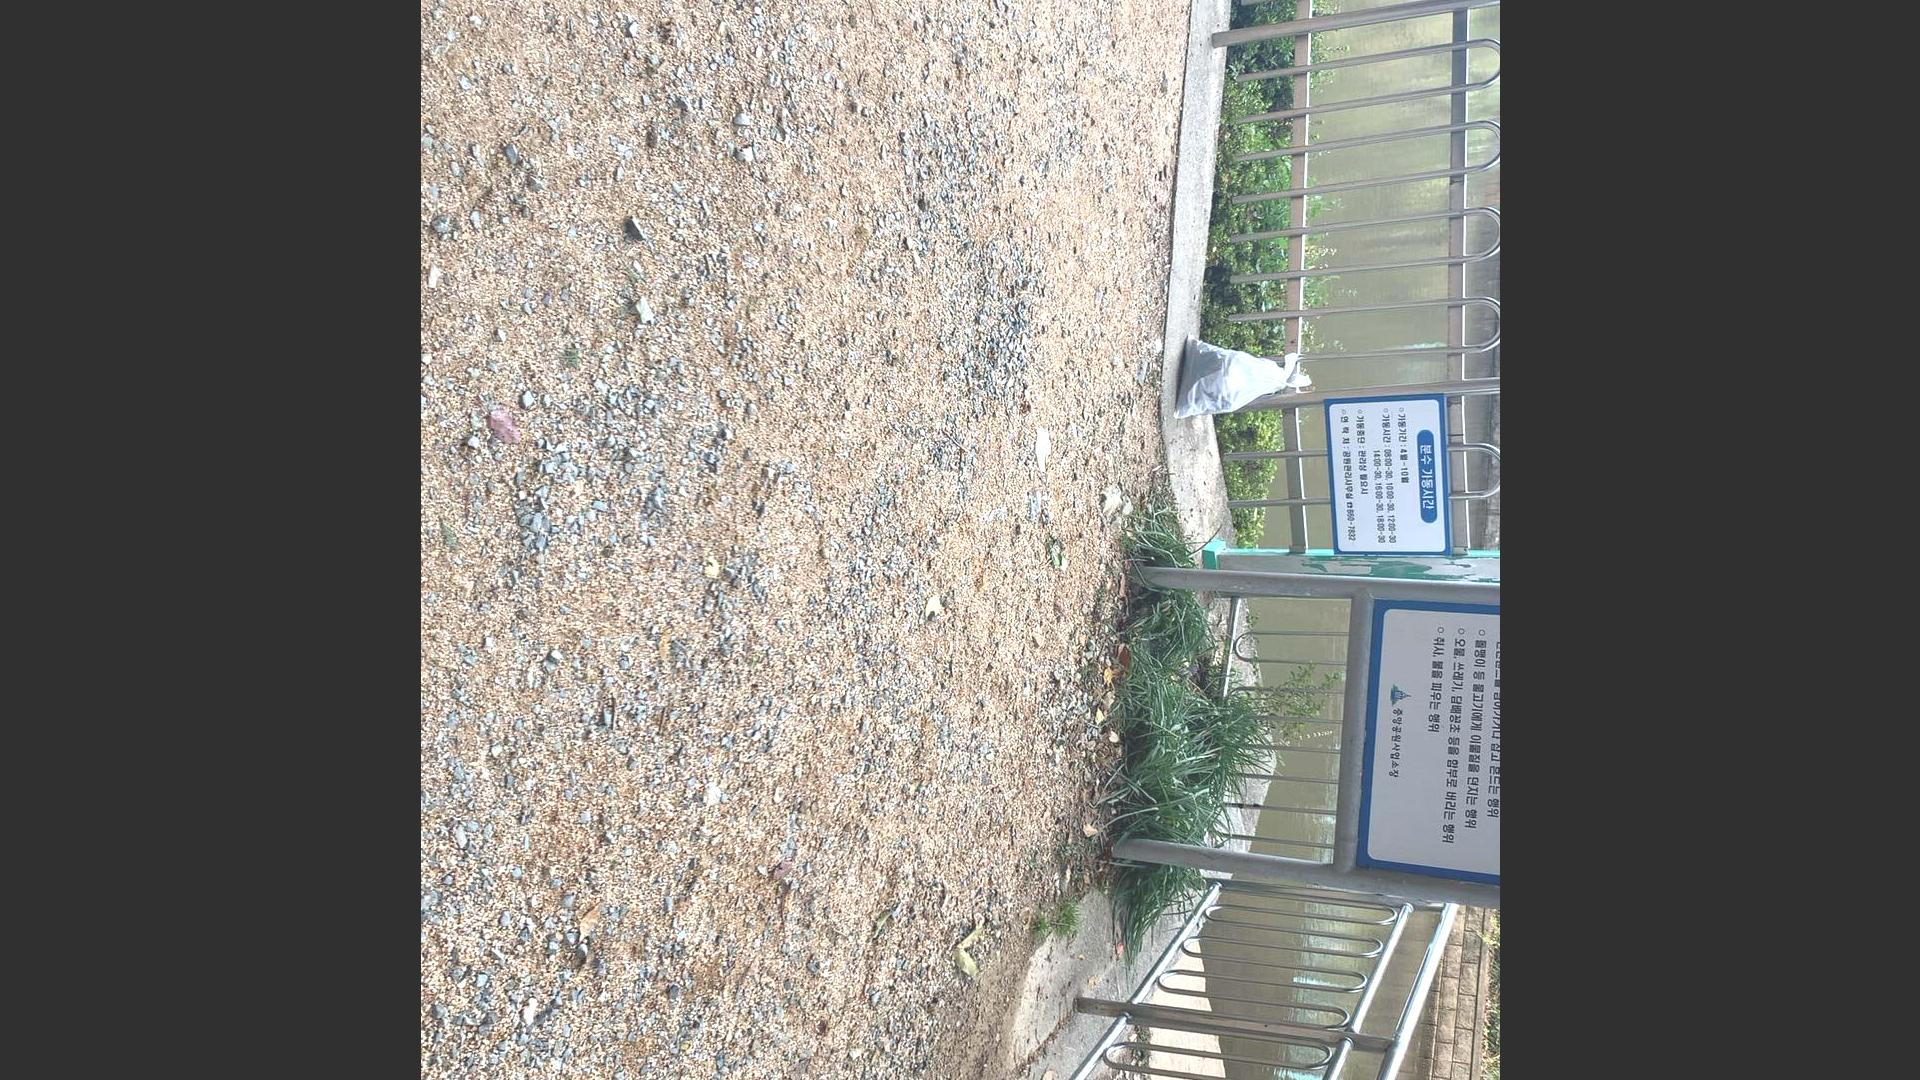white_bag: (1170, 322, 1313, 427)
